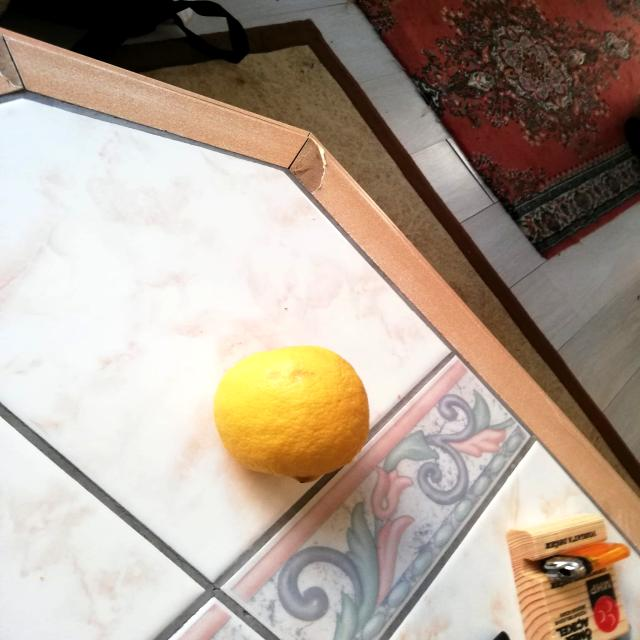lemon: (210, 336, 373, 491)
